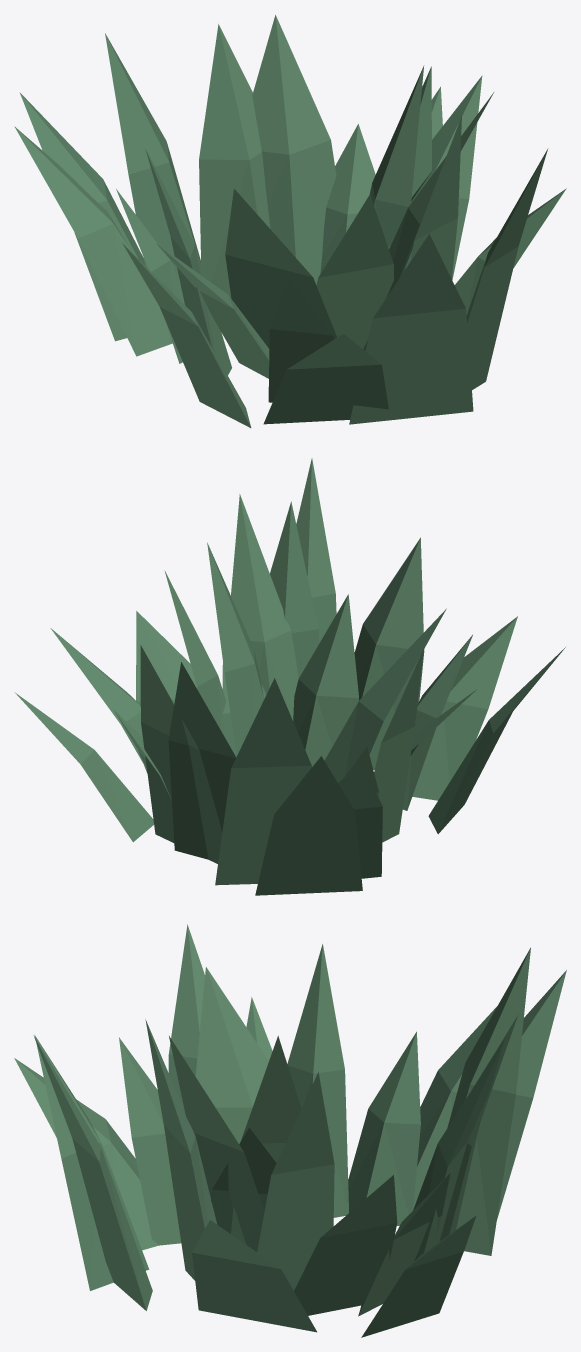
The model's file is Cimen_Obek_01.fbx.
3 renders of one model, top to bottom at view 1: azimuth 30°, elevation 25°; view 2: azimuth 150°, elevation 25°; view 3: azimuth 270°, elevation 25°, orthographic. The views are drawn at different scales.
Parts seen in each view (by area): view 1: Cimen_Obek_01_LOD0; view 2: Cimen_Obek_01_LOD0; view 3: Cimen_Obek_01_LOD0.
Boxes of the visible parts, box(x1,y1,x2,y2) form: Cimen_Obek_01_LOD0: box(14, 15, 566, 427); Cimen_Obek_01_LOD0: box(14, 458, 565, 895); Cimen_Obek_01_LOD0: box(14, 924, 566, 1337).
Size of what is drawn, in the model's own units: 2.15 by 1.24 by 2.17.
